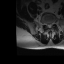CCS_normal: (48, 20, 50, 30)
LFS_normal: (52, 19, 54, 26)
LLS_normal: (50, 20, 52, 28)
RFS_normal: (44, 20, 46, 27)
RLS_normal: (46, 21, 48, 29)
